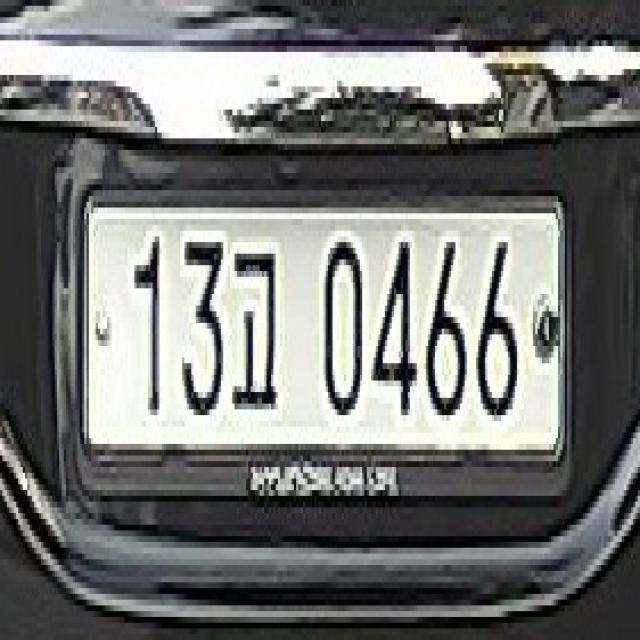0: (314, 236, 369, 438)
1: (130, 230, 171, 432)
3: (175, 230, 228, 427)
4: (371, 236, 424, 421)
6: (471, 242, 524, 438), (422, 230, 472, 432)
go: (230, 225, 289, 438)
license_plate: (73, 167, 574, 513)
